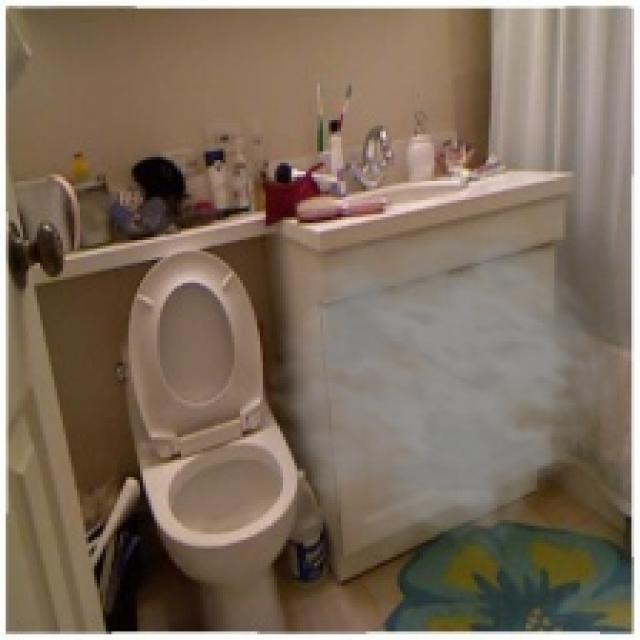Smoke: (237, 217, 620, 566)
